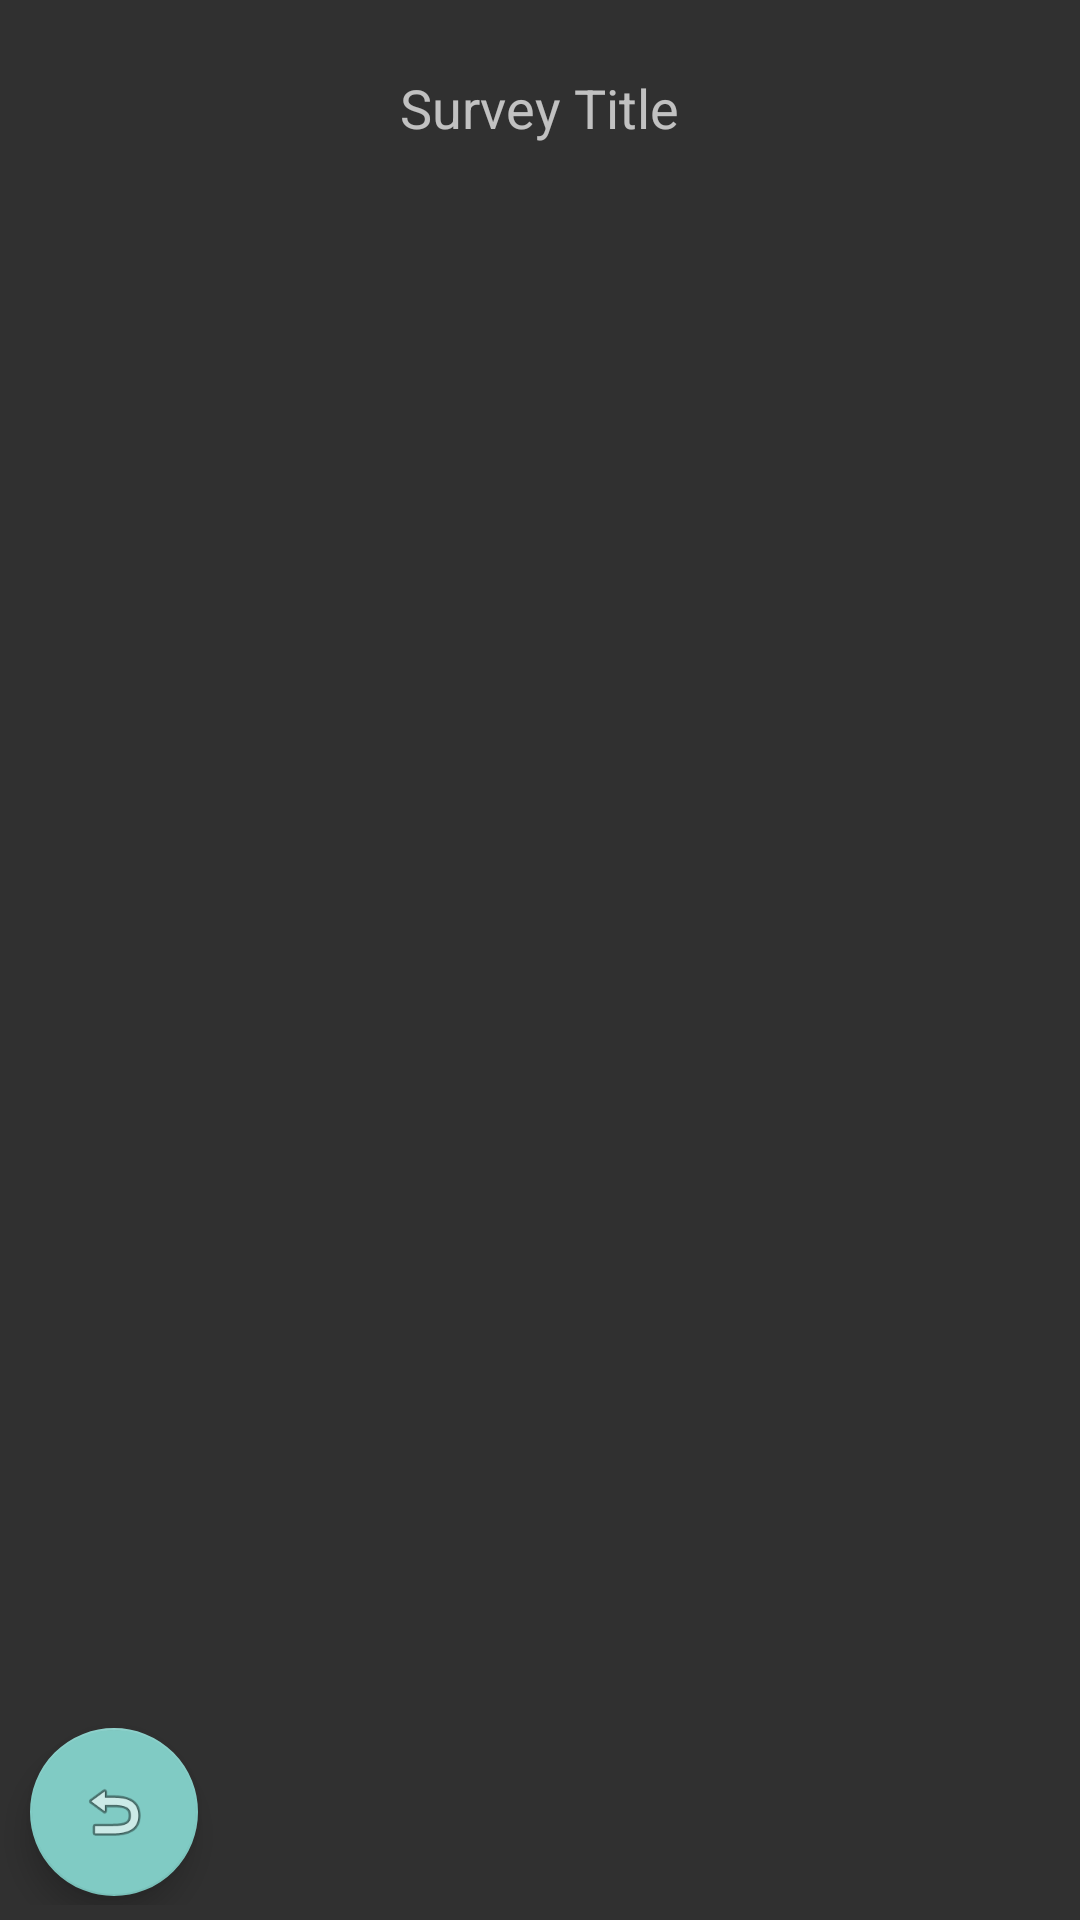

Where icons sit on this 1080*1920 app screen, as (x1, y1, x2, y2):
revert: (30, 1728, 198, 1896)
